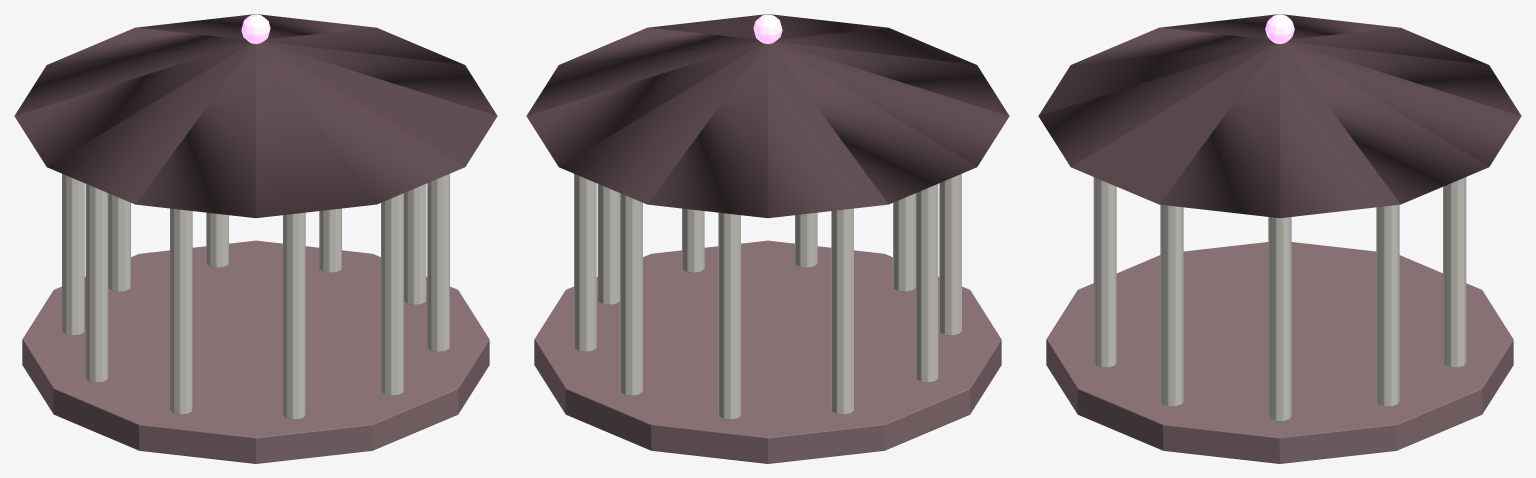
File: SM_Neroberg_Monopteros.fbx
The picture shows the model from 3 angles, left to right: view 1: azimuth 30°, elevation 25°; view 2: azimuth 150°, elevation 25°; view 3: azimuth 270°, elevation 25°; orthographic projection.
Visible parts, largest first — view 1: SM_Neroberg_Monopteros; view 2: SM_Neroberg_Monopteros; view 3: SM_Neroberg_Monopteros.
Boxes of the visible parts, left/top/right/bottom form: SM_Neroberg_Monopteros: left=14, top=14, right=497, bottom=463; SM_Neroberg_Monopteros: left=526, top=14, right=1009, bottom=463; SM_Neroberg_Monopteros: left=1038, top=14, right=1521, bottom=463.
Bounding box in the file's own units: 5.79 × 4.63 × 5.79.
